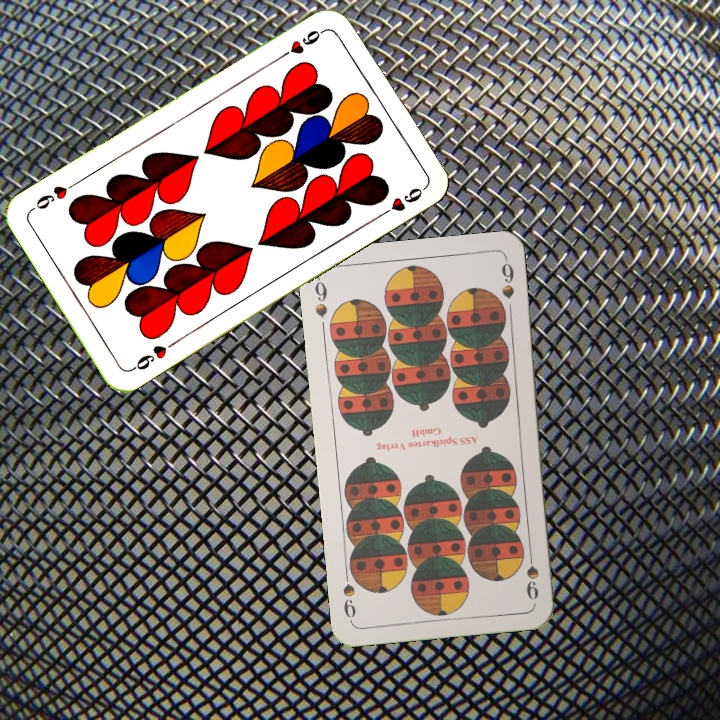H9: (274, 25, 328, 62), (127, 336, 179, 374)
S9: (522, 544, 542, 603), (311, 273, 330, 320)
